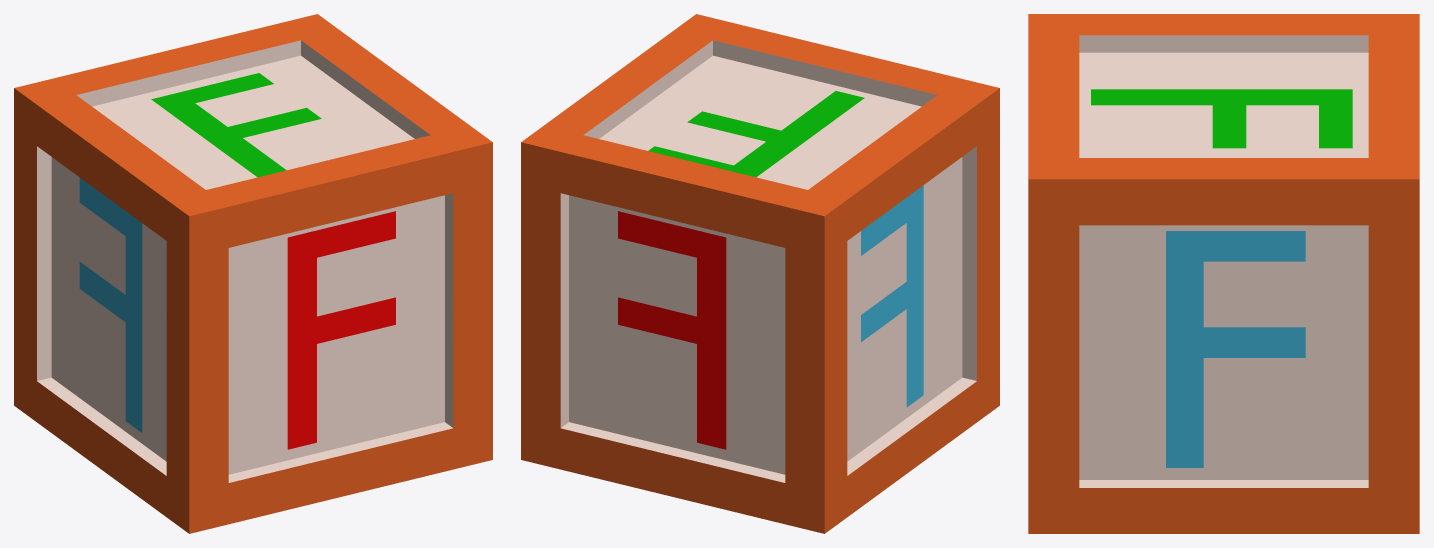
The model's file is Prop_KidsCube_F.fbx.
The picture shows the model from 3 angles, left to right: view 1: azimuth 30°, elevation 25°; view 2: azimuth 150°, elevation 25°; view 3: azimuth 270°, elevation 25°; orthographic projection. The views are drawn at different scales.
Parts seen in each view (by area): view 1: Prop_KidsCube_F; view 2: Prop_KidsCube_F; view 3: Prop_KidsCube_F.
Boxes of the visible parts, x1,y1,x2,y2 form: Prop_KidsCube_F: (14,14,492,533); Prop_KidsCube_F: (521,14,999,533); Prop_KidsCube_F: (1028,14,1419,533).
Size of the model in its own units: 20.93 by 20.93 by 20.93.
Materials: 1 (1 with a texture image).
